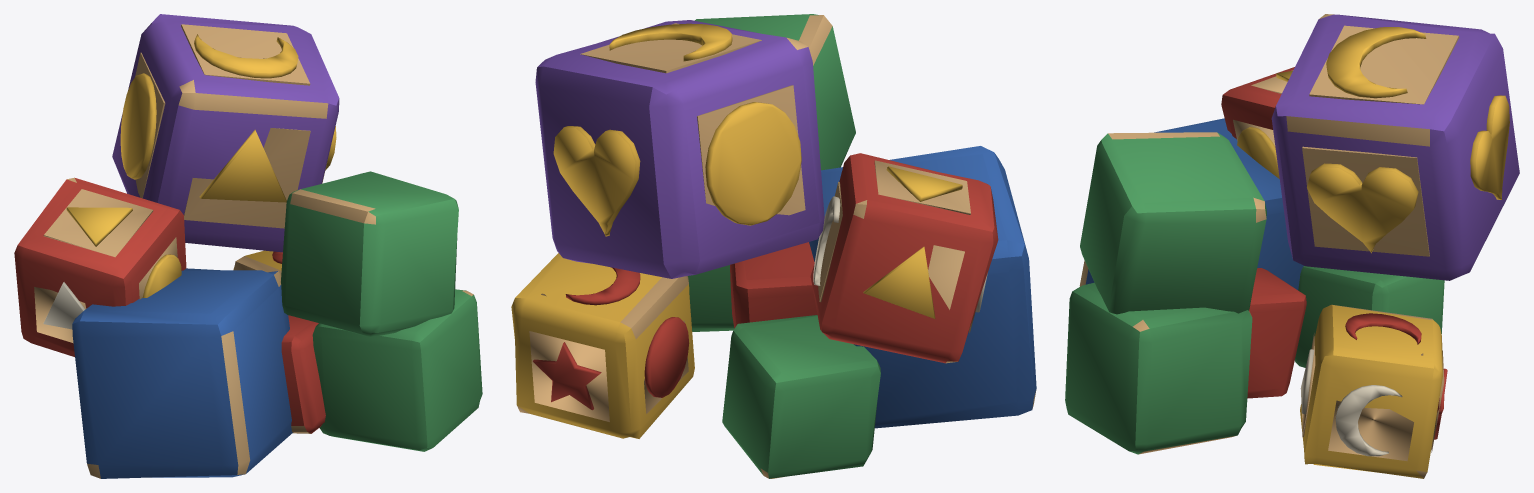
The model's file is den_toy_pile_c_lod1.glb.
The picture shows the model from 3 angles, left to right: view 1: azimuth 30°, elevation 25°; view 2: azimuth 150°, elevation 25°; view 3: azimuth 270°, elevation 25°; orthographic projection. The views are drawn at different scales.
Parts seen in each view (by area): view 1: den_toy_pile_c.001; view 2: den_toy_pile_c.001; view 3: den_toy_pile_c.001.
Part boxes in pixels (x1,y1,x2,y2): den_toy_pile_c.001: [14, 14, 482, 478]; den_toy_pile_c.001: [511, 14, 1036, 478]; den_toy_pile_c.001: [1065, 14, 1519, 478].
Bounding box in the file's own units: 5.79 × 5.08 × 5.55.
